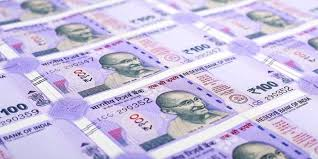hundred: (110, 76, 295, 142), (54, 35, 229, 74)
